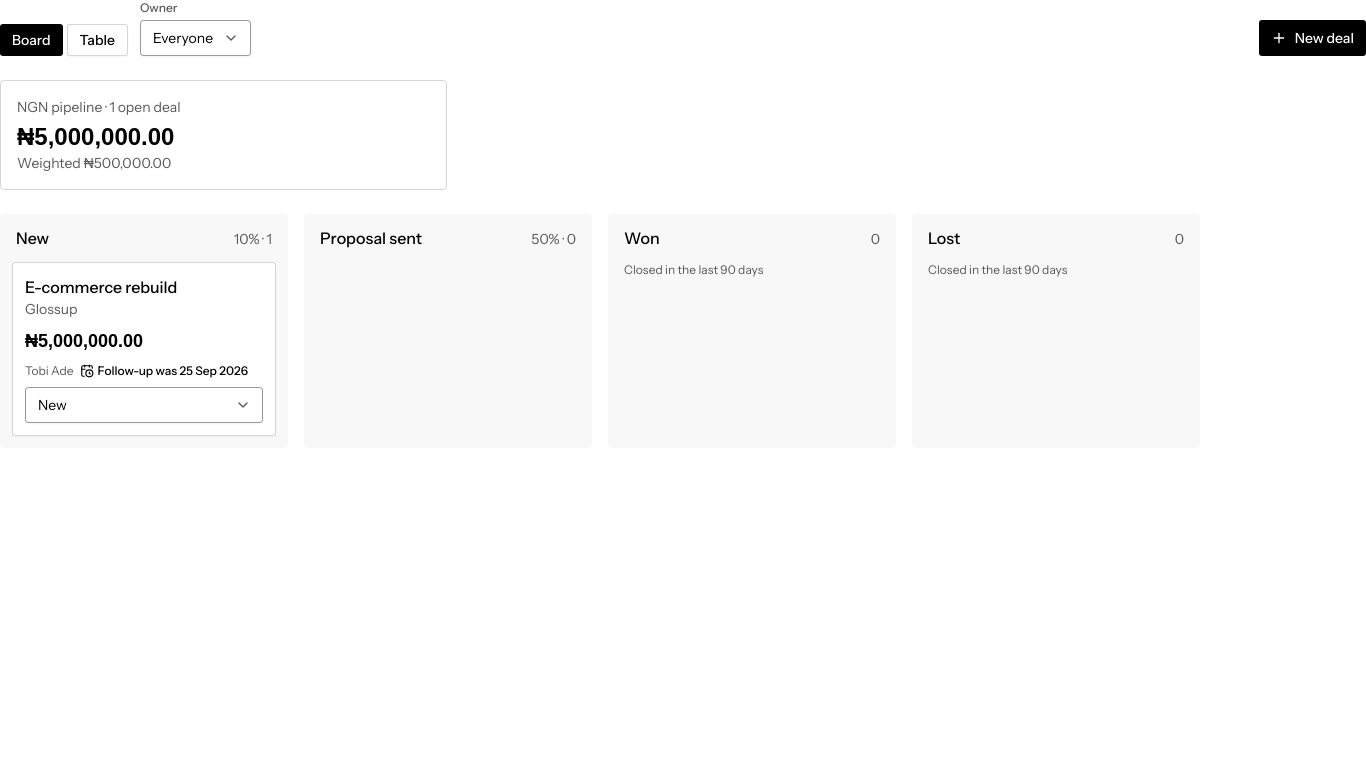
DealBoard › shows pipeline value and moves deals between stages, asking why when lost
Expected: the element named "Pipeline value" shows "NGN pipeline · 1 open deal", 0,80 -> 447,190
Expected: the element named "Pipeline value" shows "Weighted", 17,154 -> 84,172
Select "Proposal sent" in the dropdown named "Move E-commerce rebuild" at point(144, 405), box 25,387 -> 263,423
Select "Lost" in the dropdown named "Move E-commerce rebuild" at point(144, 405), box 25,387 -> 263,423
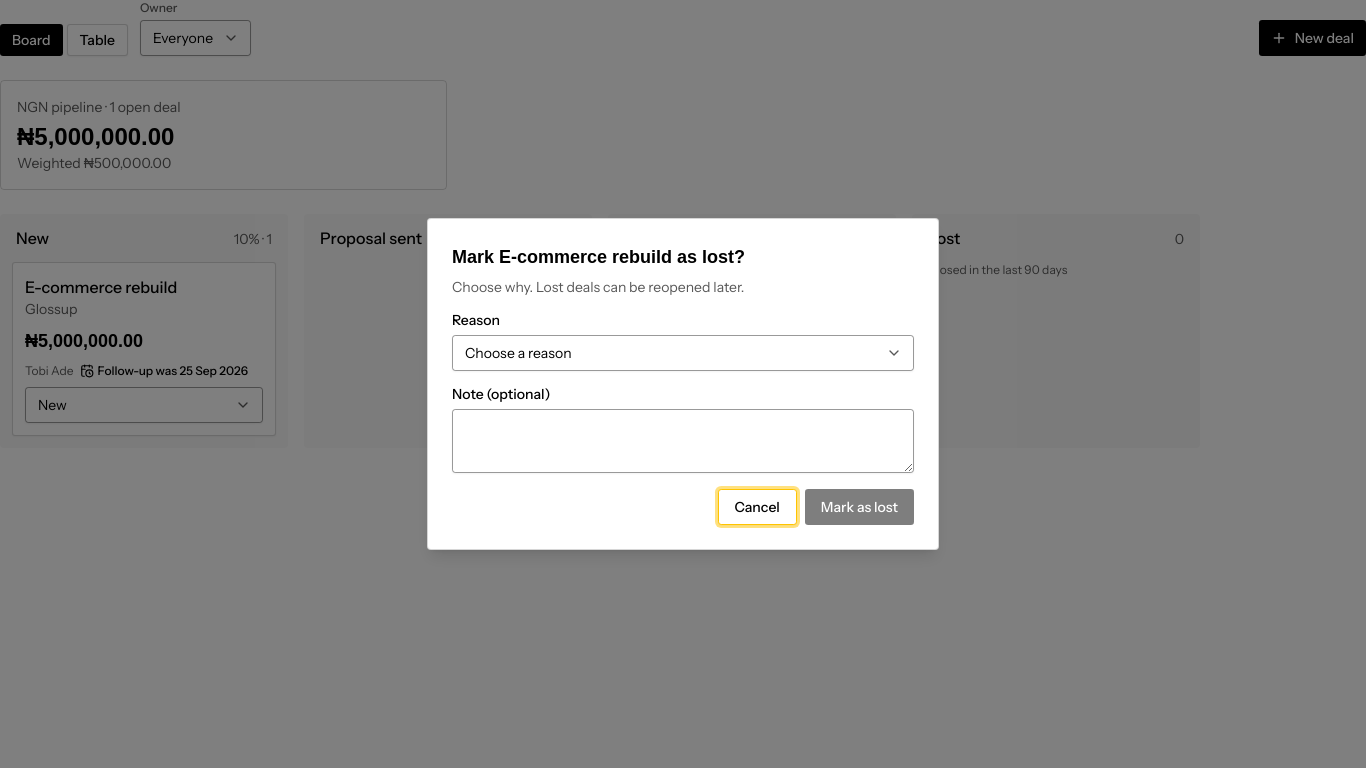
Expected: the button "Mark as lost" is disabled, 805,489 -> 914,525
Select "Budget" in the dropdown labelled "Reason" at point(683, 353), box 452,335 -> 914,371
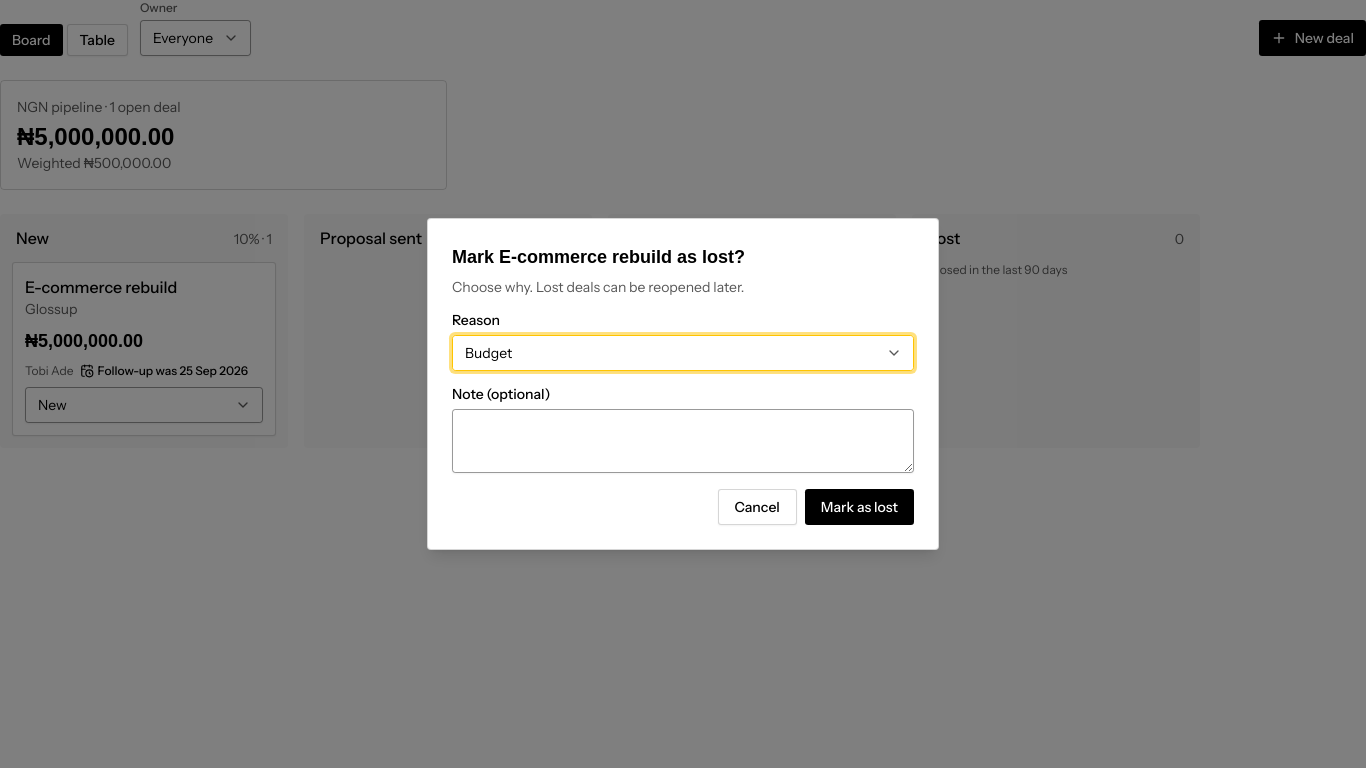
Type "Half the budget" into the text box labelled "Note (optional)" at point(683, 441), box 452,409 -> 914,473
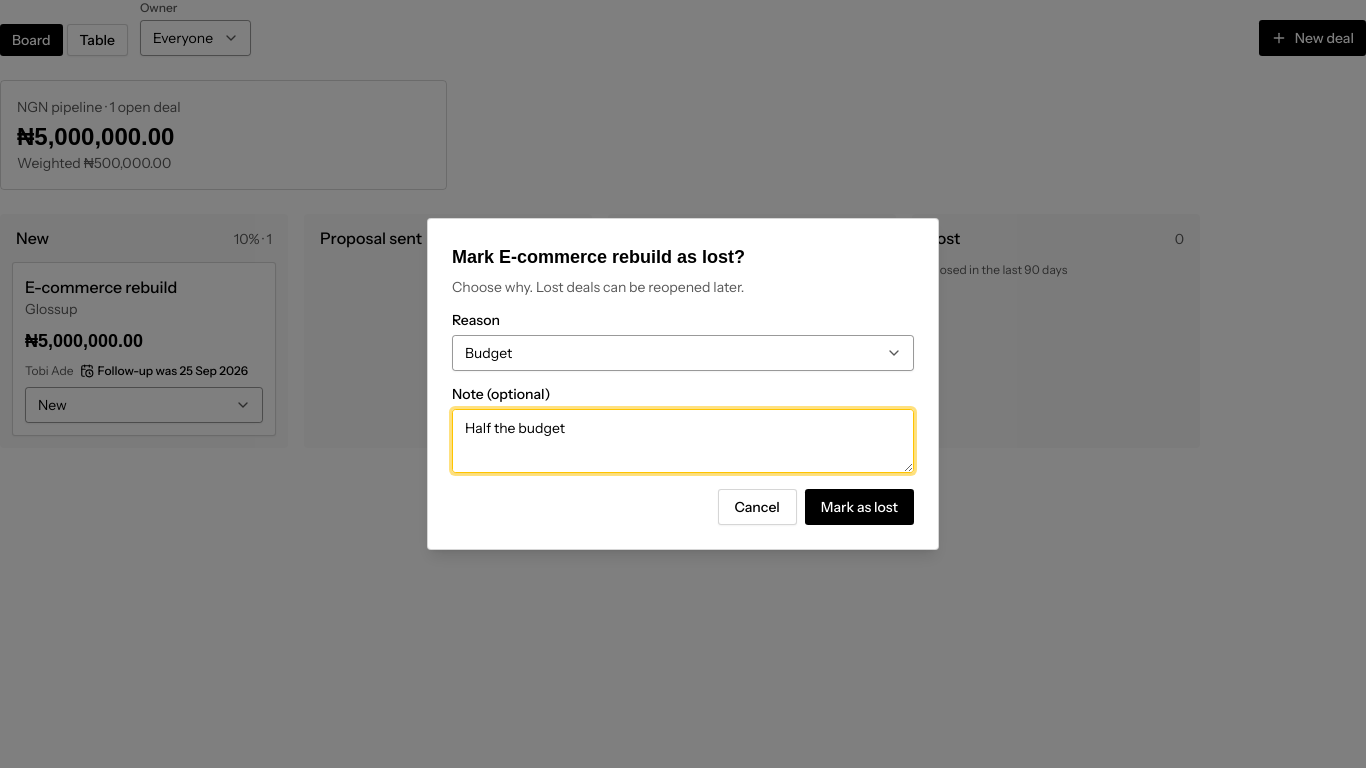
Click the button "Mark as lost" at point(859, 507), box 805,489 -> 914,525
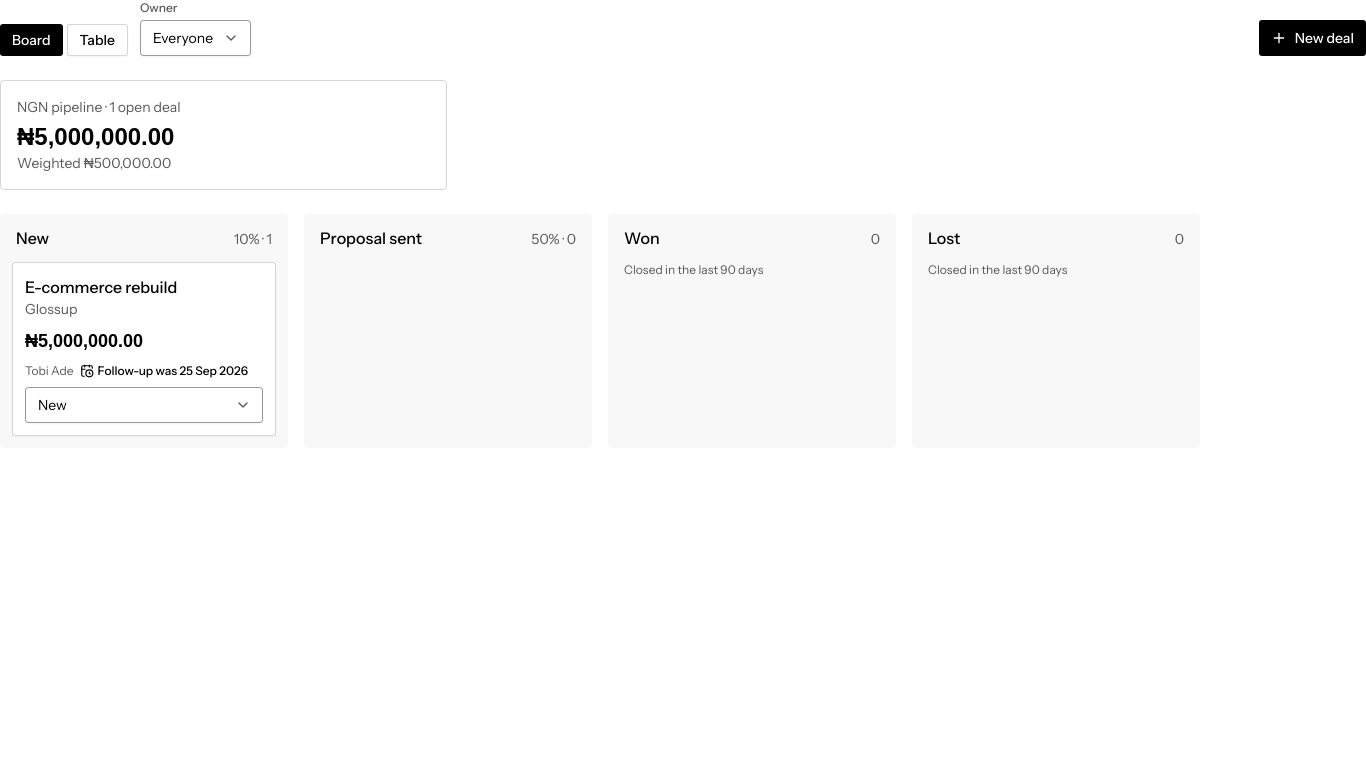
Select "My deals" in the dropdown labelled "Owner" at point(195, 38), box 140,20 -> 251,56
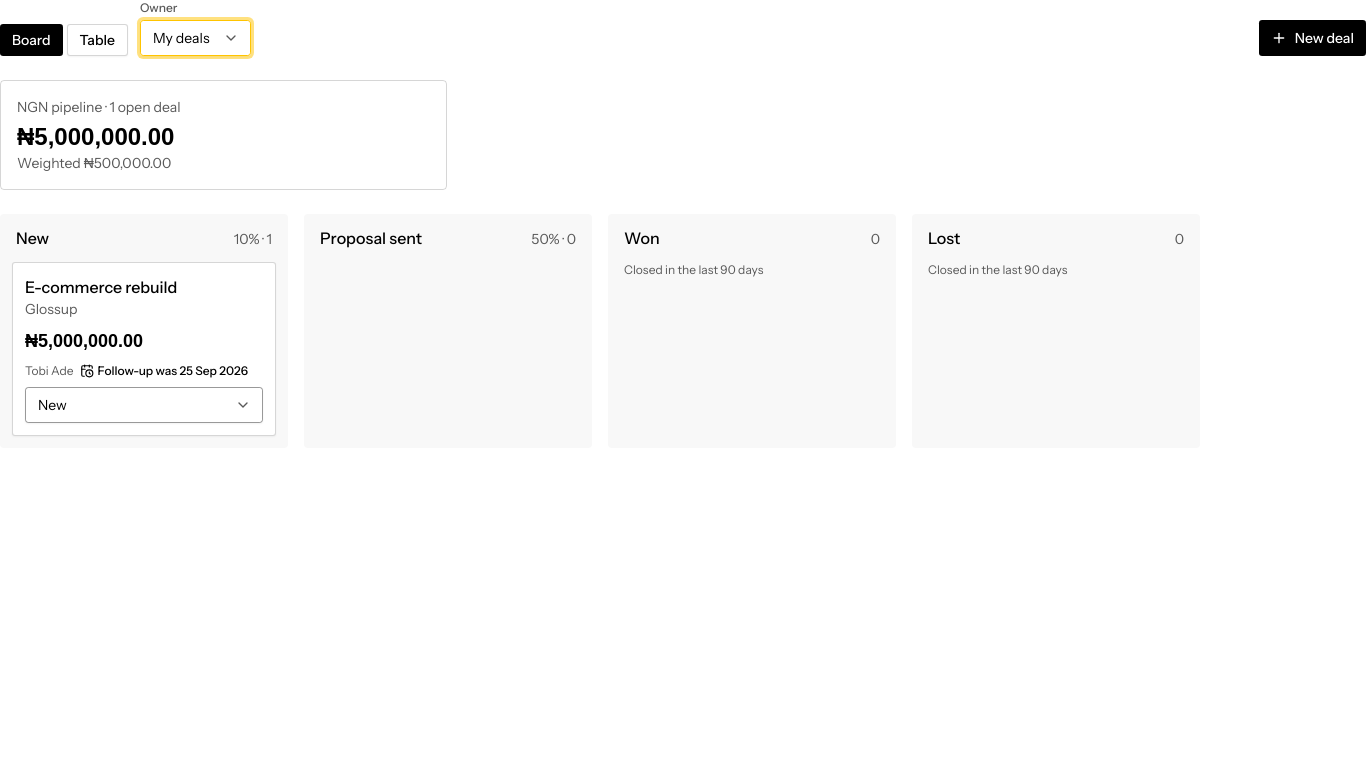
Click the button "Table" at point(97, 40), box 67,24 -> 128,56
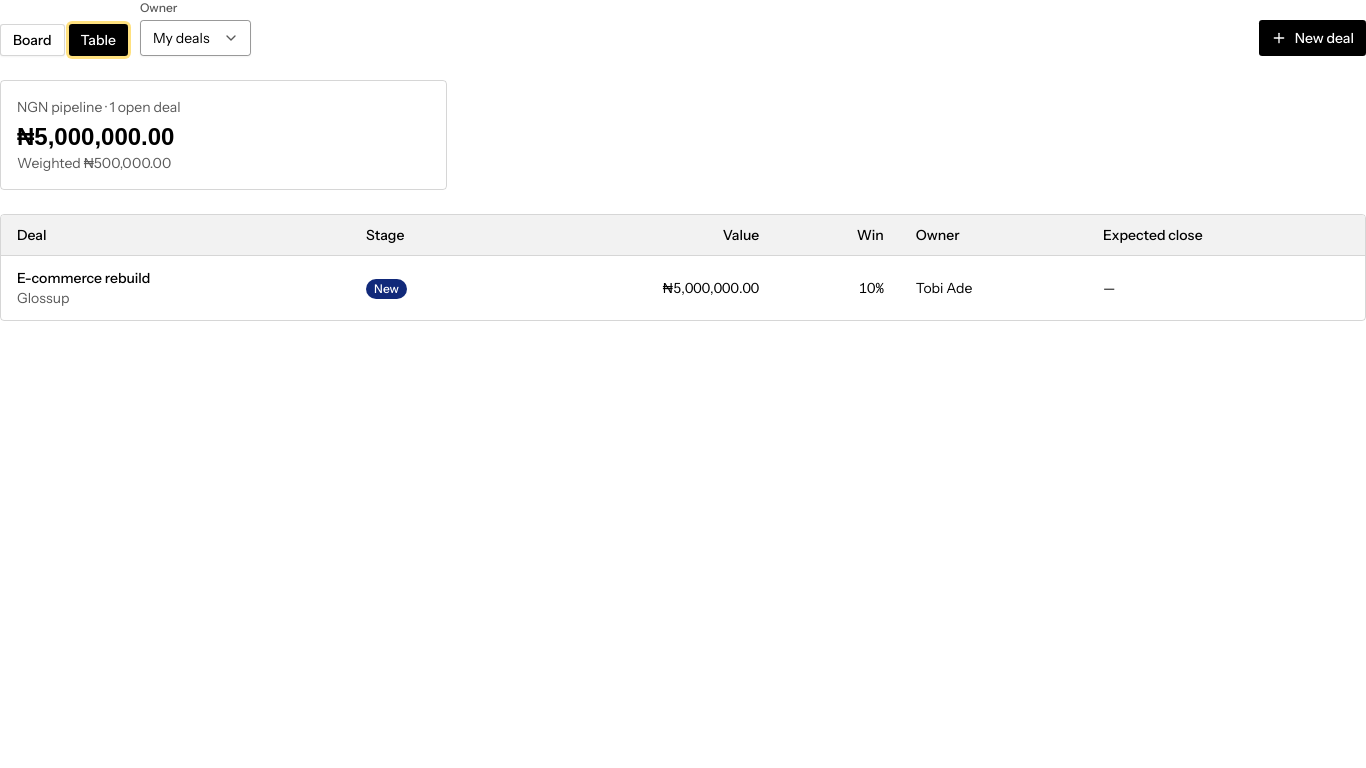
Expected: the table named "Deals" shows "E-commerce rebuild", 17,268 -> 334,308
